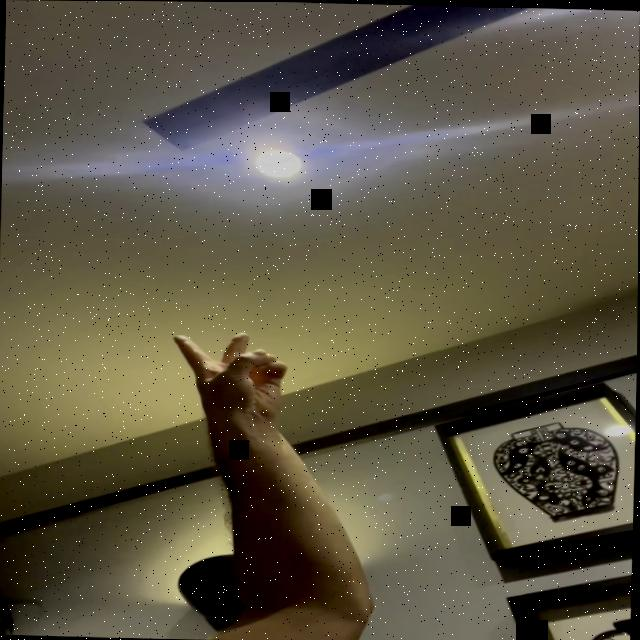Scissors: (172, 328, 293, 414)
